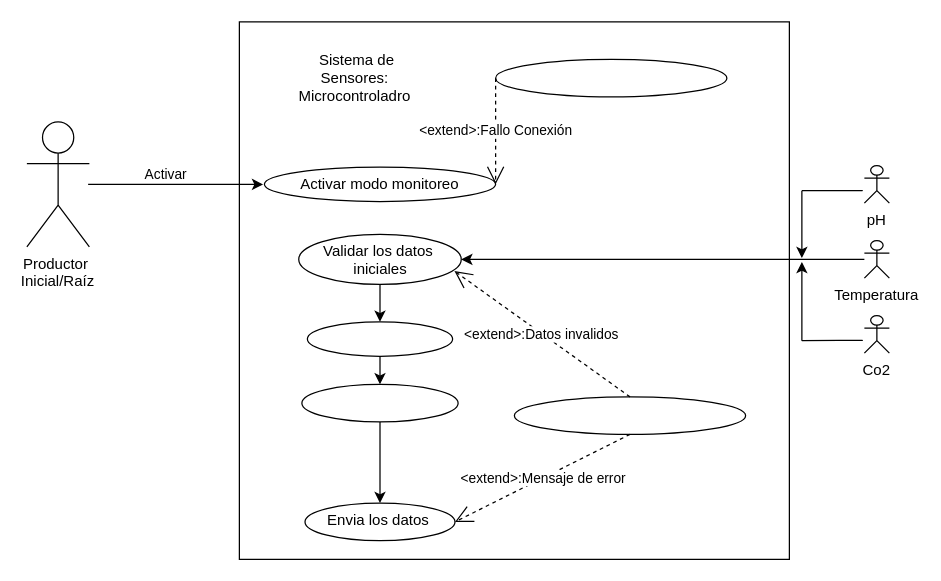
The diagram is 941 pixels wide and 581 high, and some of its shapes have lost their labels. Here are the shapes that lost their labels. From the top down, the centre of each, then its label:
point (610, 77): Encender led
point (379, 338): Intervalo de tiempo
point (379, 402): Recopilar datos
point (629, 415): Alerta de error
